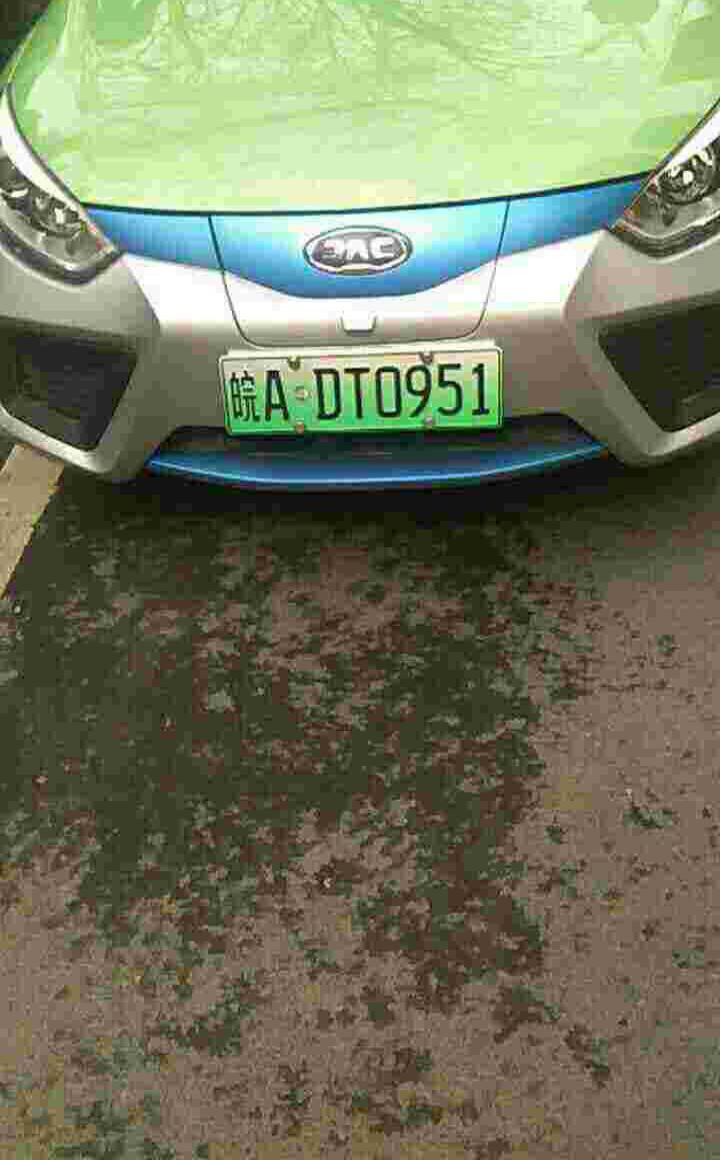car: (208, 357, 507, 429)
